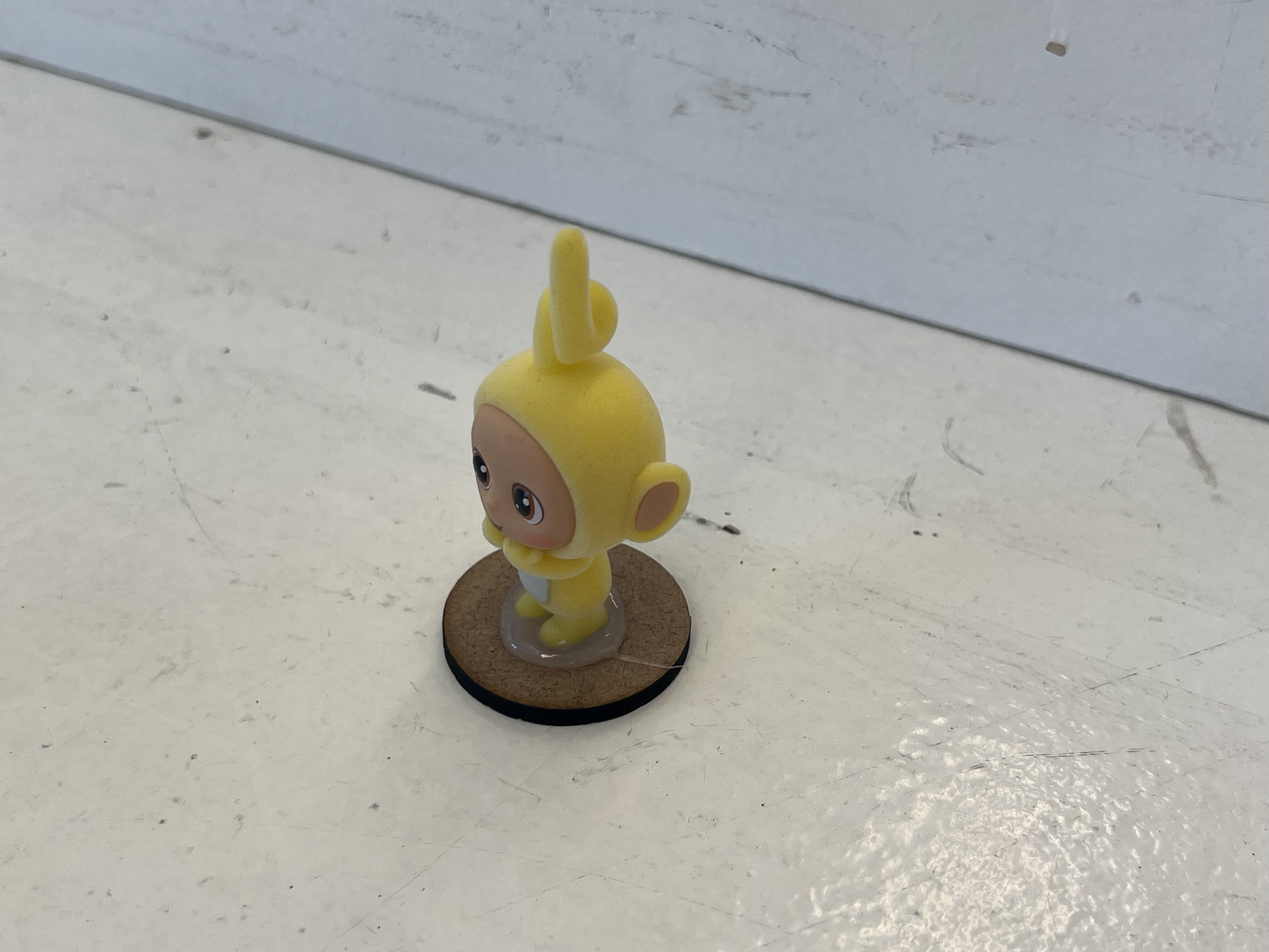teletubby: (472, 228, 690, 647)
